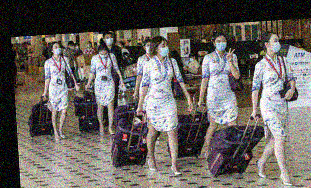with_mask: (270, 37, 282, 54), (158, 43, 171, 58), (215, 38, 228, 52), (53, 45, 62, 56), (105, 35, 113, 46), (98, 52, 109, 59), (145, 43, 152, 54), (86, 42, 92, 48), (75, 44, 80, 50), (189, 57, 194, 62), (70, 45, 74, 49)
